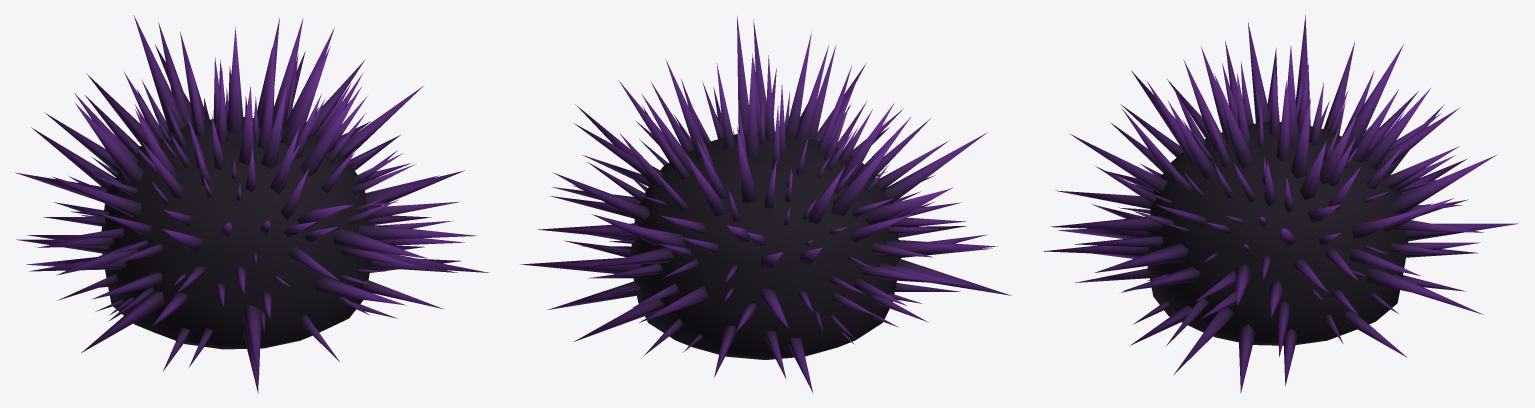
3 renders of one model, left to right at view 1: azimuth 30°, elevation 25°; view 2: azimuth 150°, elevation 25°; view 3: azimuth 270°, elevation 25°, orthographic. The views are drawn at different scales.
Parts seen in each view (by area): view 1: alt429; view 2: alt429; view 3: alt429.
Boxes of the visible parts, x1,y1,x2,y2 form: alt429: [15, 15, 489, 393]; alt429: [520, 16, 1010, 393]; alt429: [1043, 14, 1518, 393].
Size of the model in its own units: 0.486 by 0.3026 by 0.5.
